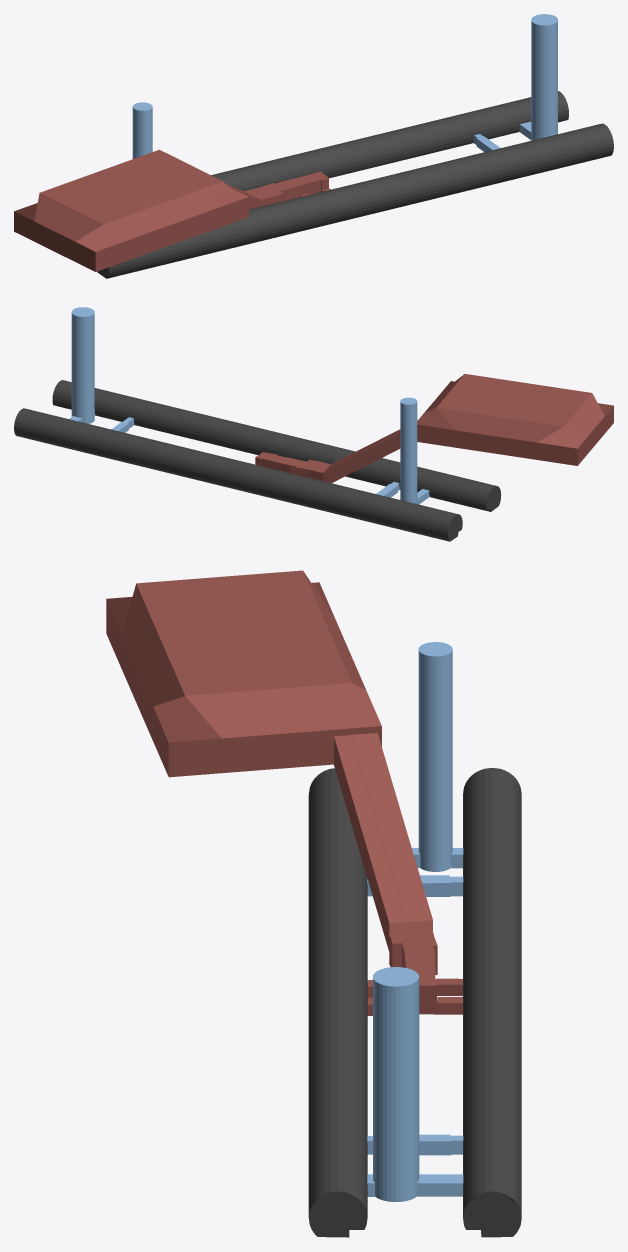
The picture shows the model from 3 angles, top to bottom: view 1: azimuth 30°, elevation 25°; view 2: azimuth 150°, elevation 25°; view 3: azimuth 270°, elevation 25°; orthographic projection. The views are drawn at different scales.
Parts seen in each view (by area): view 1: TicketHall, PLT1, PLT2, 16, Concourse, 25; view 2: PLT2, TicketHall, PLT1, 16, 25, ESC, Concourse; view 3: TicketHall, PLT2, PLT1, 16, ESC, 25, Concourse, 32, 43.
Boxes of the visible parts, bbox=[...] form: TicketHall: bbox=[14, 149, 248, 271]; PLT1: bbox=[97, 123, 613, 278]; PLT2: bbox=[211, 91, 568, 190]; 16: bbox=[519, 14, 557, 140]; Concourse: bbox=[244, 171, 328, 206]; 25: bbox=[132, 102, 152, 158]; PLT2: bbox=[14, 408, 462, 541]; TicketHall: bbox=[417, 374, 613, 465]; PLT1: bbox=[52, 380, 501, 511]; 16: bbox=[69, 307, 95, 423]; 25: bbox=[400, 397, 429, 504]; ESC: bbox=[323, 429, 400, 483]; Concourse: bbox=[255, 452, 330, 480]; TicketHall: bbox=[106, 570, 381, 777]; PLT2: bbox=[463, 768, 521, 1237]; PLT1: bbox=[308, 768, 367, 1237]; 16: bbox=[367, 967, 463, 1201]; ESC: bbox=[334, 733, 432, 951]; 25: bbox=[412, 642, 463, 871]; Concourse: bbox=[389, 920, 437, 1014]; 32: bbox=[367, 1134, 463, 1155]; 43: bbox=[367, 875, 463, 896].
Bounding box in the file's own units: 186 × 38.67 × 65.05.
